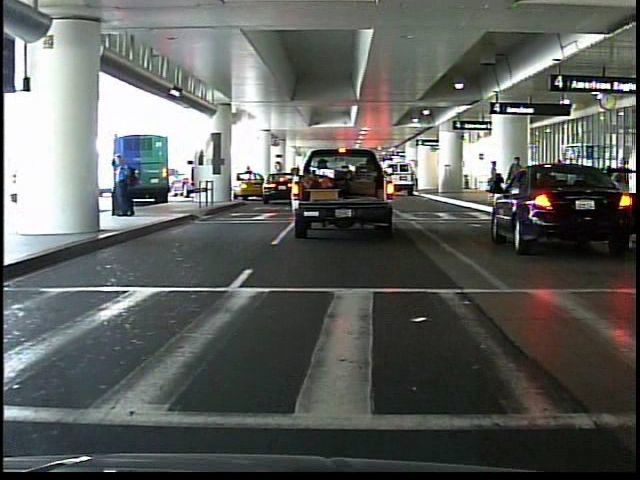person: (110, 151, 139, 221), (506, 153, 526, 207)
